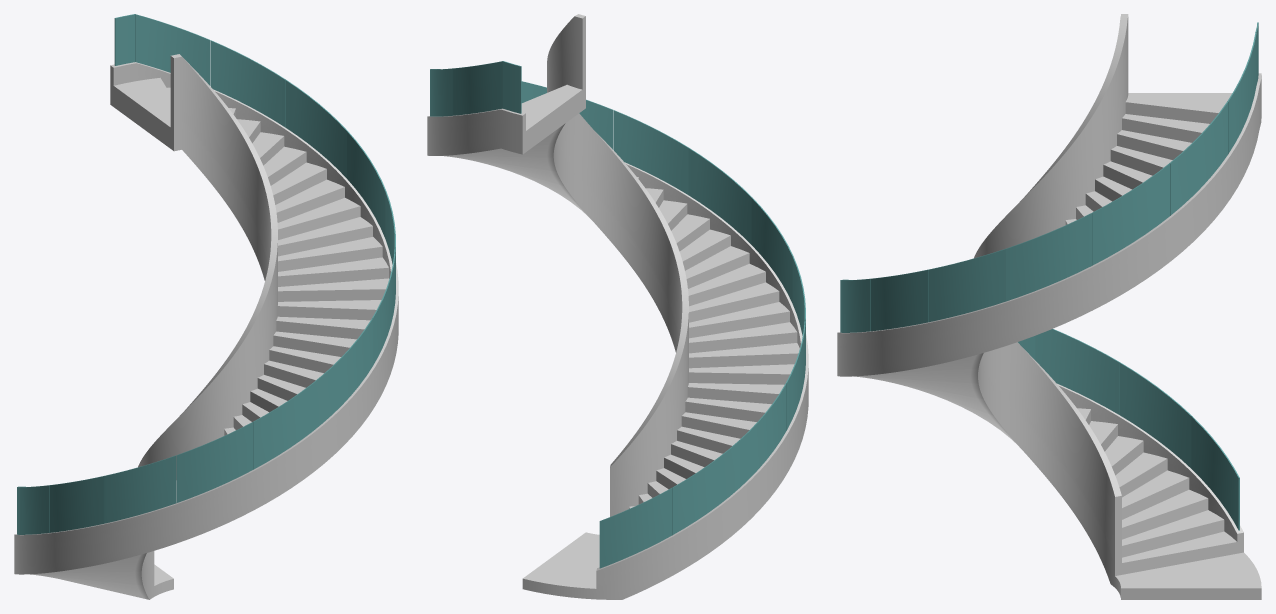
The model's file is uploads_files_3871911_Stair.fbx.
The picture shows the model from 3 angles, left to right: view 1: azimuth 30°, elevation 25°; view 2: azimuth 150°, elevation 25°; view 3: azimuth 270°, elevation 25°; orthographic projection. The views are drawn at different scales.
Visible parts, largest first — view 1: polySurface13, polySurface12; view 2: polySurface13, polySurface12; view 3: polySurface13, polySurface12.
Part boxes in pixels (bbox=[...]): polySurface13: bbox=[14, 54, 398, 599]; polySurface12: bbox=[17, 14, 395, 534]; polySurface13: bbox=[427, 14, 808, 599]; polySurface12: bbox=[430, 61, 805, 568]; polySurface13: bbox=[837, 14, 1261, 599]; polySurface12: bbox=[840, 22, 1258, 530].
Bounding box in the file's own units: 28.55 × 43.5 × 28.55.
